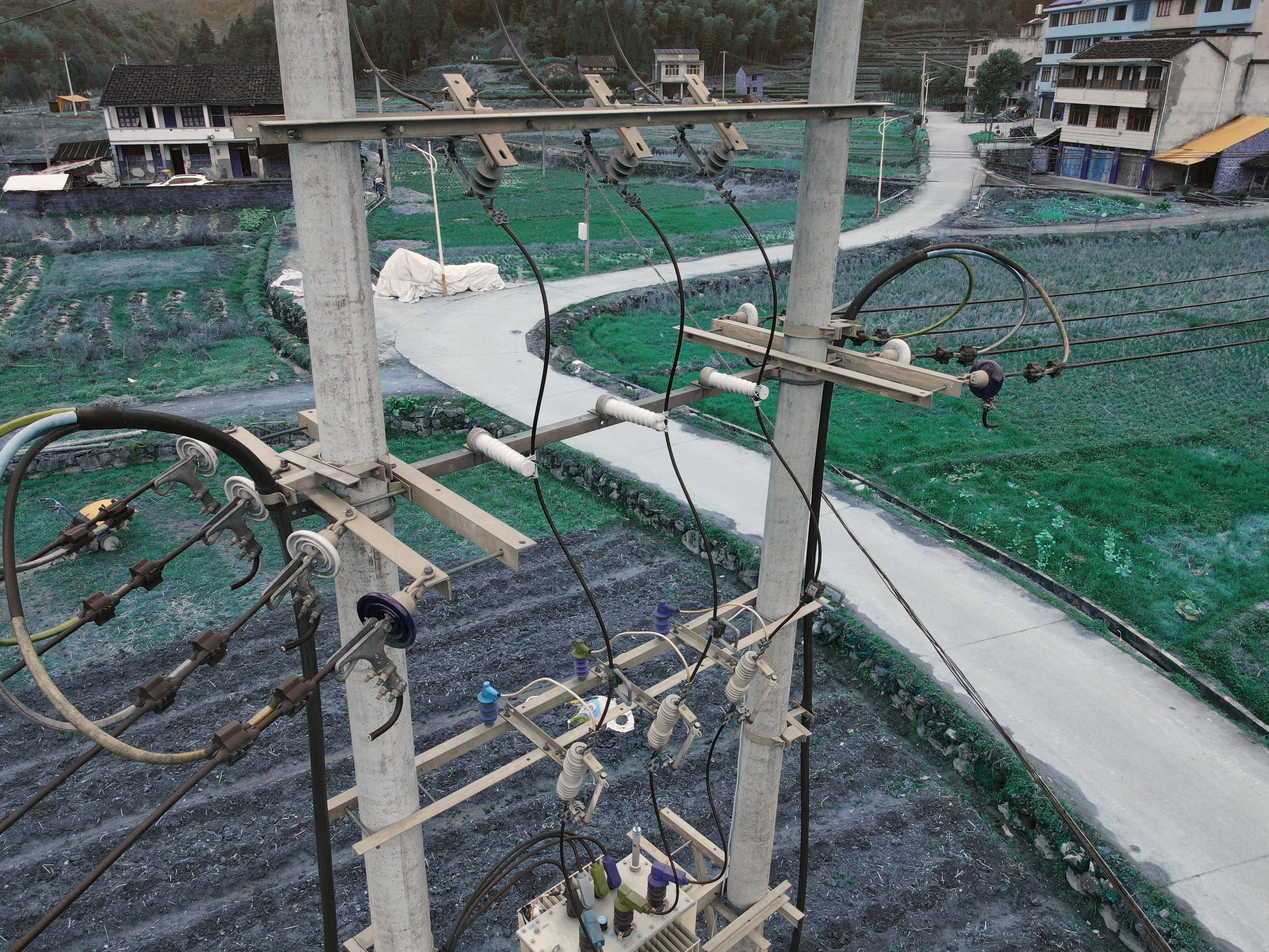severe_soiling_no_discharge_whole: (352, 589, 421, 651), (284, 526, 345, 580), (223, 475, 271, 523), (173, 435, 219, 480), (729, 302, 760, 327), (882, 337, 911, 362)
